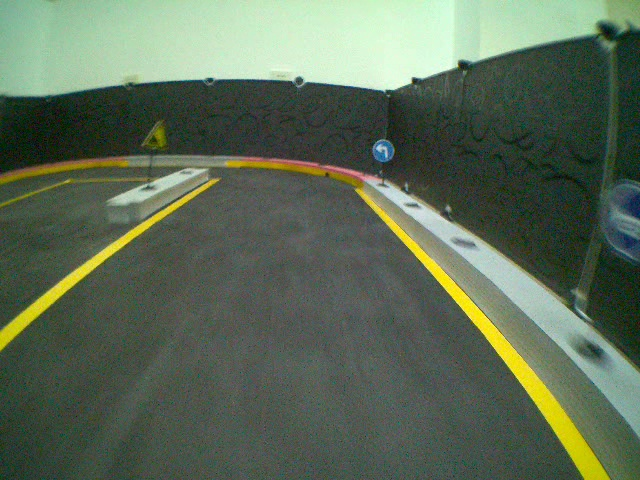fast: (139, 118, 172, 153)
horn: (596, 178, 640, 264)
turn: (371, 138, 396, 165)
